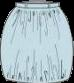Hemline: (3, 76, 69, 82)
Waistline: (15, 6, 59, 9), (15, 2, 58, 3)
